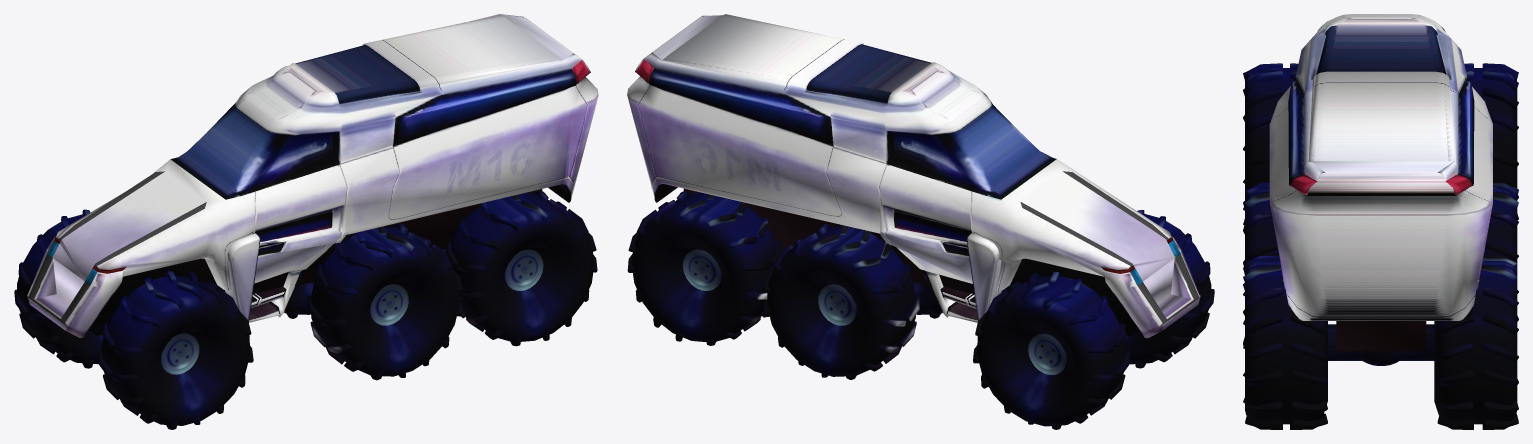
The model's file is truck.fbx.
The picture shows the model from 3 angles, left to right: view 1: azimuth 30°, elevation 25°; view 2: azimuth 150°, elevation 25°; view 3: azimuth 270°, elevation 25°; orthographic projection. The views are drawn at different scales.
Visible parts, largest first — view 1: truck; view 2: truck; view 3: truck.
Boxes of the visible parts, <box> form: truck: <box>14,14,598,429</box>; truck: <box>627,14,1214,429</box>; truck: <box>1243,14,1518,429</box>.
Size of the model in its own units: 353 by 175 by 143.
4 materials, 4 textured.
